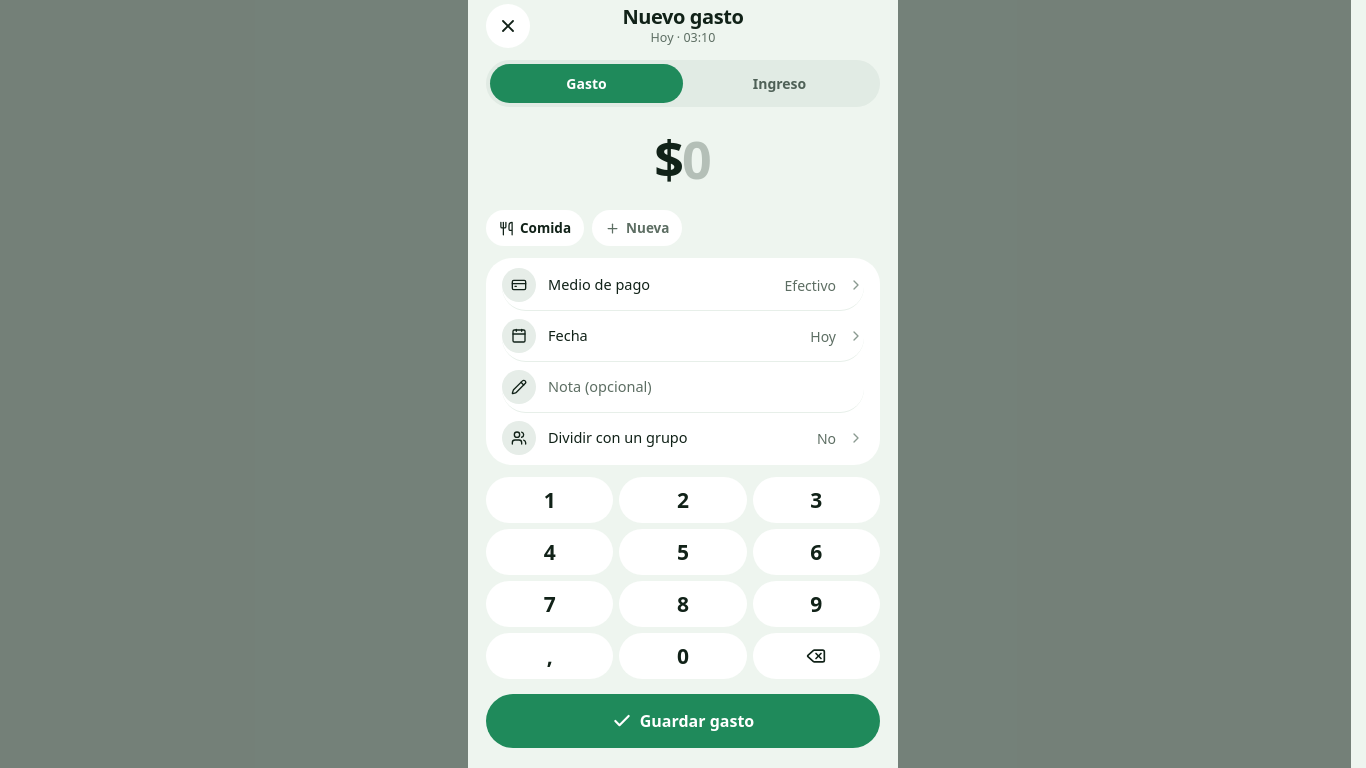
Test: MovementSheet overdraft warning › continuing records the expense exactly once
Type "25000" into the field named "Monto" at (697, 158), box [682,123,712,194]
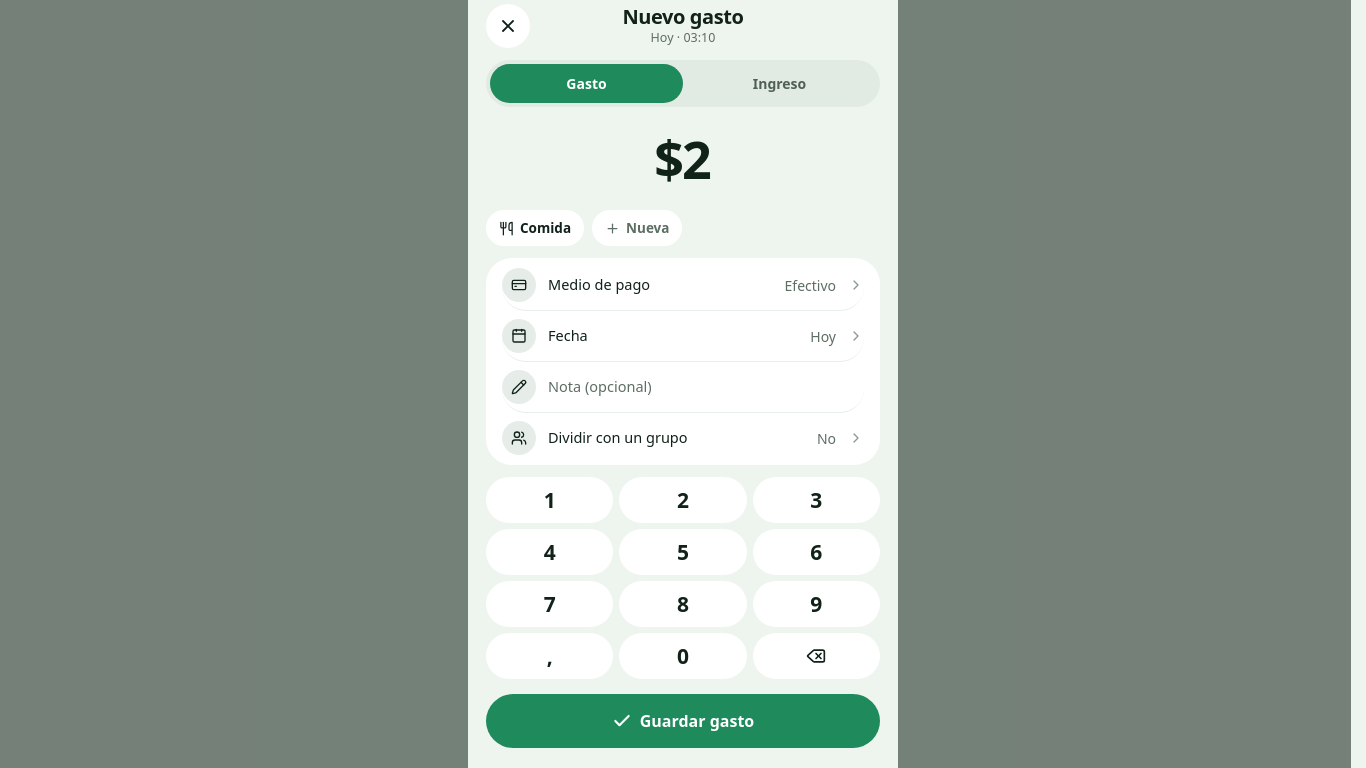
Click the button "Comida" at (535, 228), box [486,210,584,246]
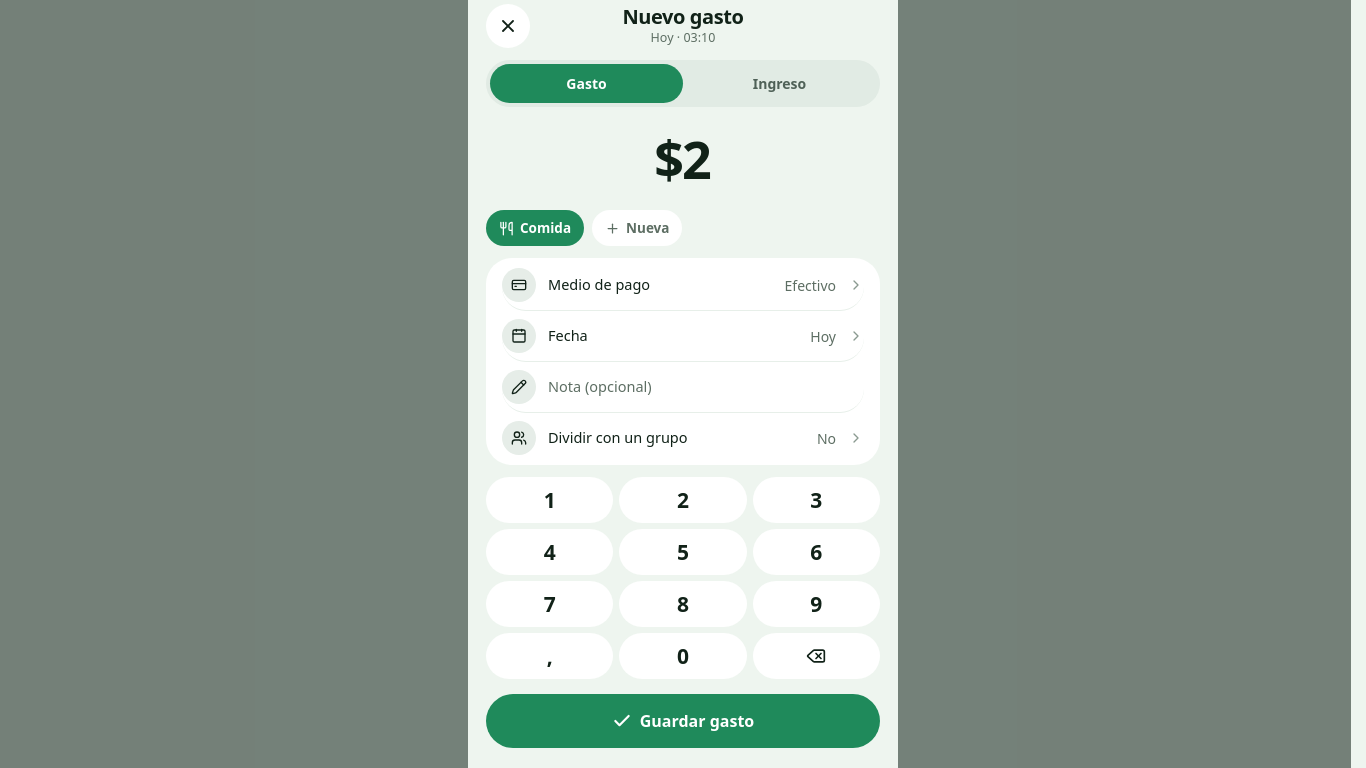
Click the button "Guardar gasto" at (683, 721), box [486,694,880,748]
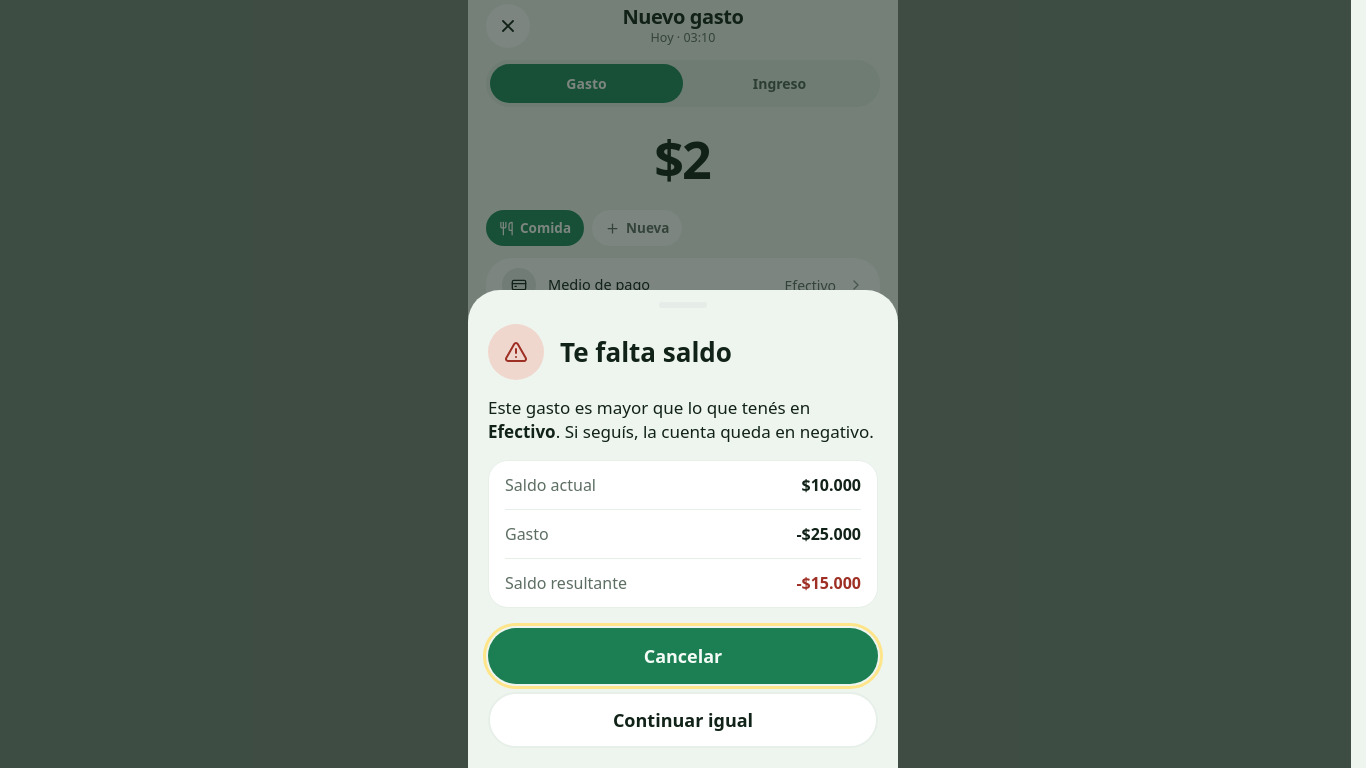
Double-click the button "Continuar igual" at (683, 720), box [488,692,878,748]
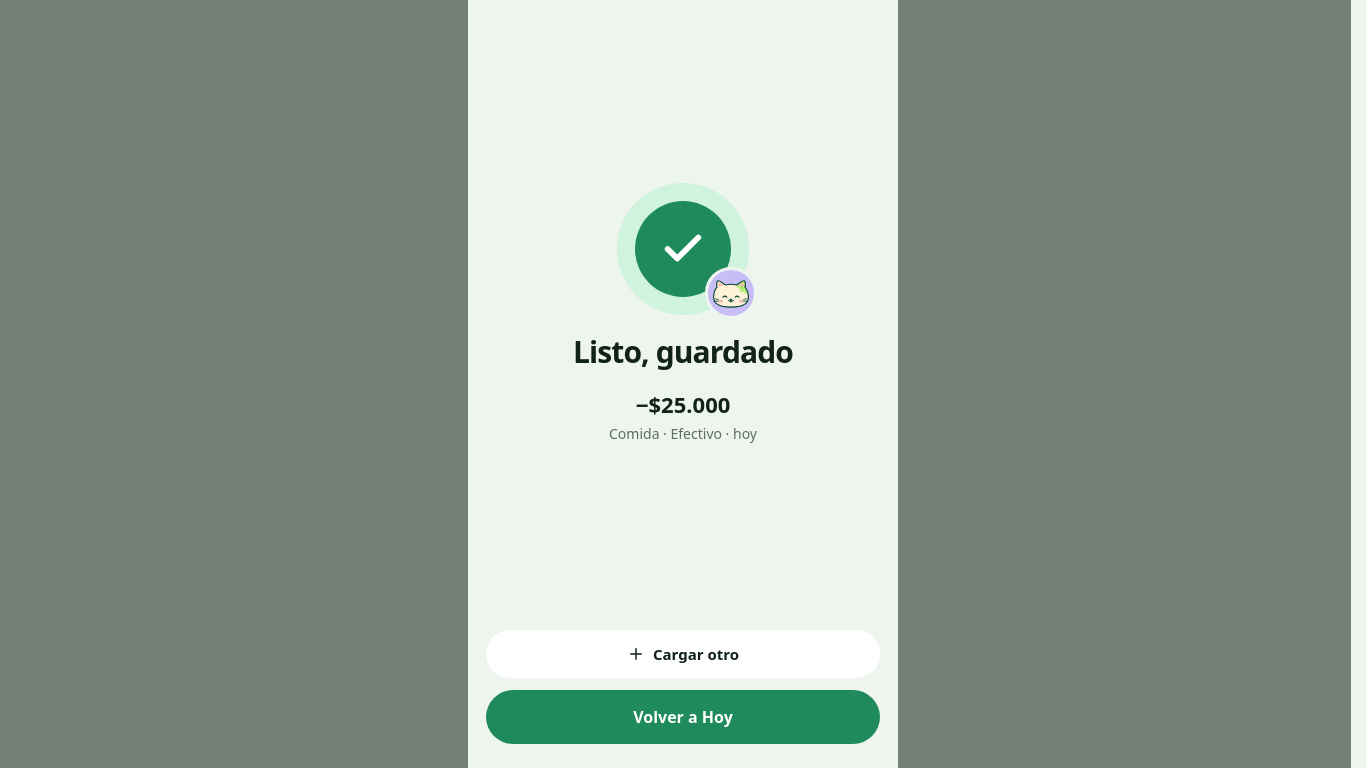
Result: the text "Listo, guardado" is shown at [573,328,793,374]
